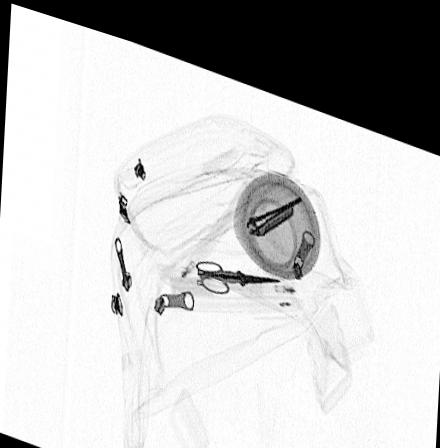Scissors: (195, 245, 283, 281)
